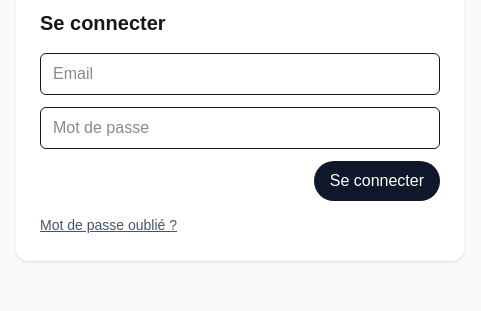
LoginPage › shows error message when login fails with a server message
Type "bad@example.com" into the field with placeholder "Email" at (240, 74), box [40,53,440,95]
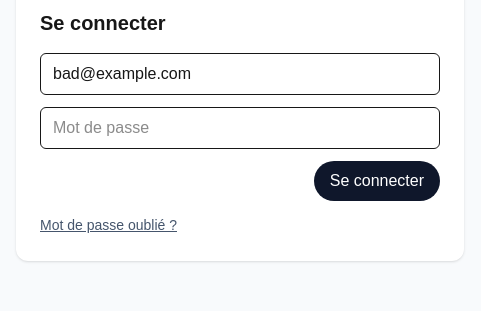
Type "wrongpassword" into the password field with placeholder "Mot de passe" at (240, 128), box [40,107,440,149]
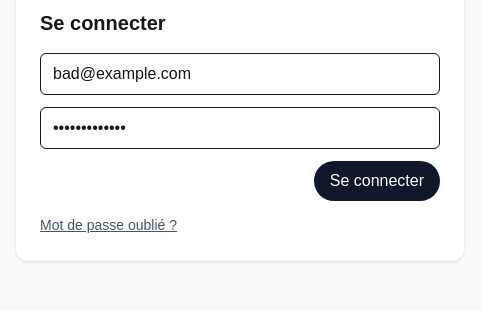
Click the button "Se connecter" at (377, 181), box [314,161,440,201]
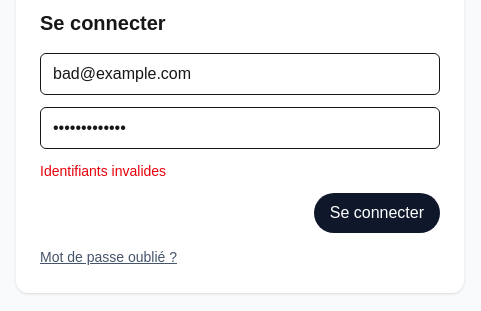
Expected: the text "Identifiants invalides" is shown, [40,163,166,179]
